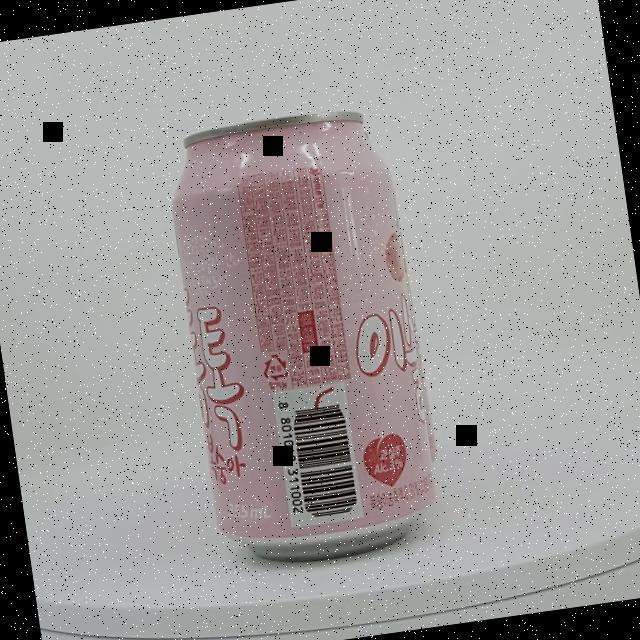can: (161, 103, 444, 574)
